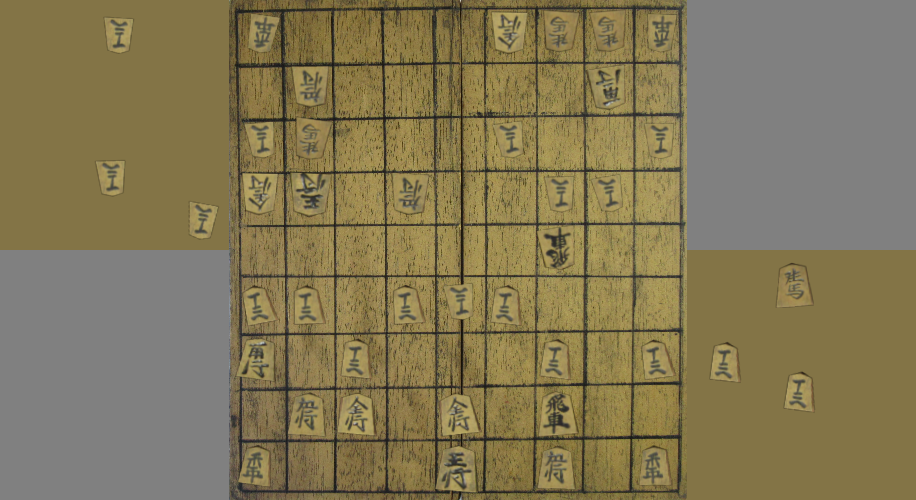A: (437, 447, 475, 492), (441, 395, 479, 435), (237, 340, 274, 380), (541, 393, 576, 435), (289, 394, 324, 435), (538, 448, 573, 488), (339, 394, 374, 434), (642, 341, 675, 379), (244, 287, 276, 324), (239, 448, 269, 486), (640, 448, 670, 485), (294, 287, 324, 324), (394, 287, 423, 323), (541, 341, 568, 379), (343, 341, 370, 378), (492, 287, 519, 324)
B: (588, 67, 625, 109), (292, 174, 329, 215), (393, 174, 428, 214), (539, 228, 573, 269), (293, 67, 328, 106), (492, 12, 526, 52), (544, 11, 578, 51), (244, 174, 277, 214), (297, 119, 330, 158), (593, 11, 625, 51), (249, 15, 279, 52), (593, 176, 622, 211), (494, 122, 522, 157), (245, 123, 273, 157), (650, 14, 675, 51), (445, 285, 472, 319), (546, 178, 573, 212), (647, 124, 672, 158)
C: (776, 263, 813, 308), (785, 373, 814, 412), (710, 344, 739, 382)
D: (189, 202, 218, 239), (96, 161, 125, 196), (104, 18, 133, 53)
